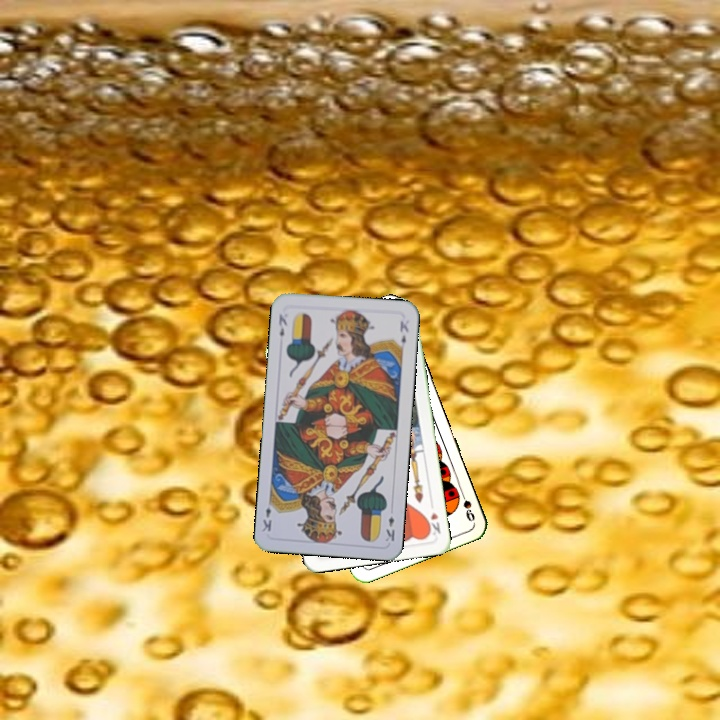EK: (382, 512, 397, 544), (274, 310, 290, 339)
HK: (423, 508, 443, 537)
S9: (456, 484, 477, 524)
